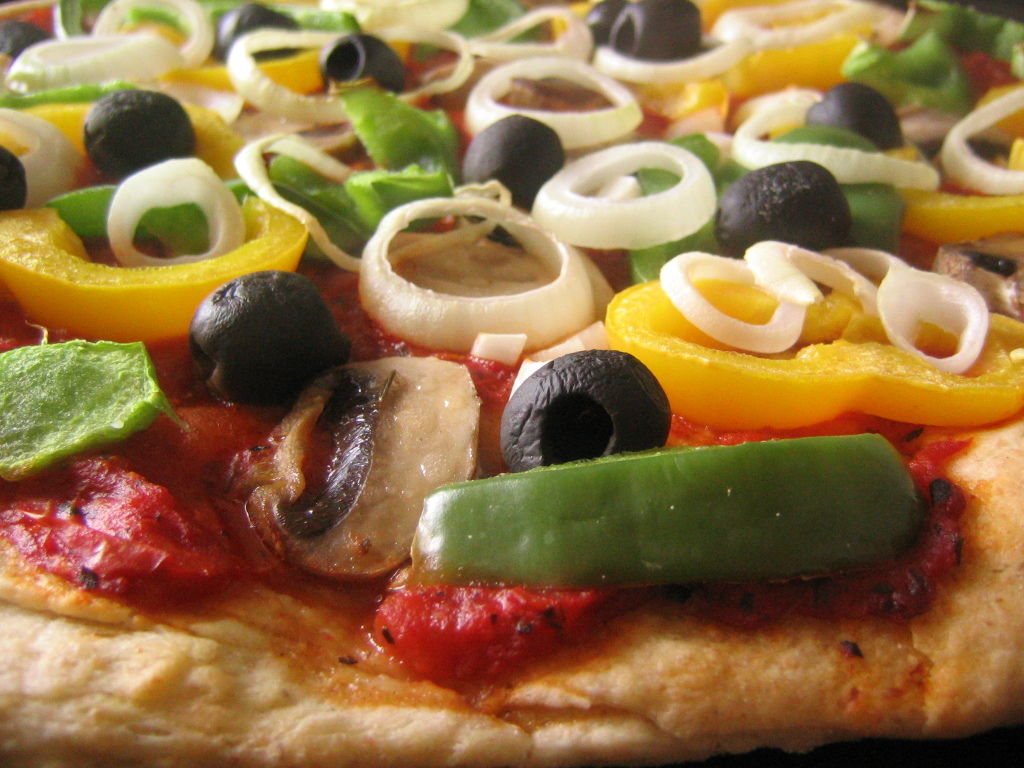Pizza: (8, 11, 997, 728)
